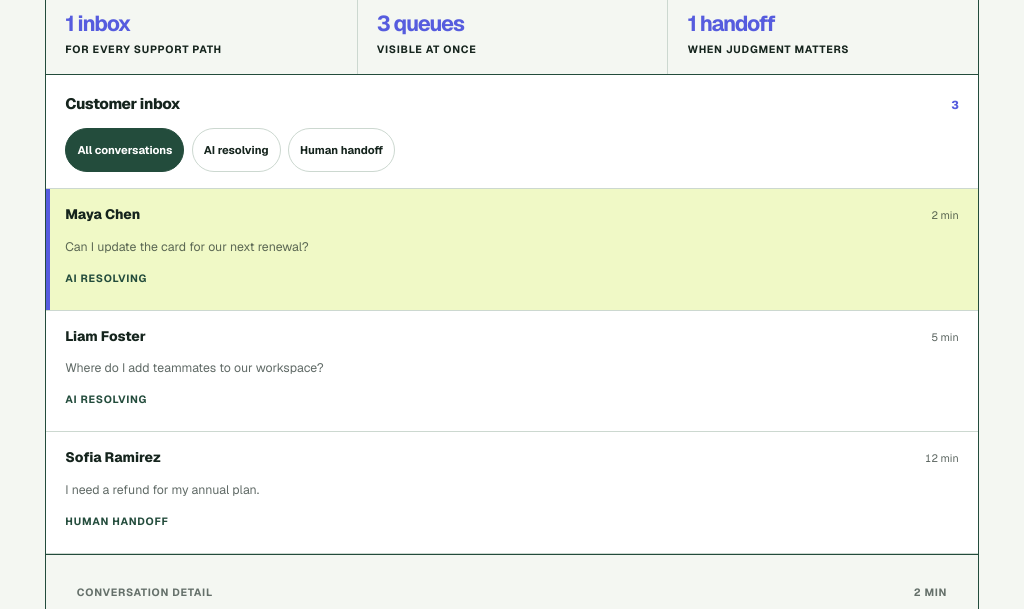
Test: SupportDashboard › queue buttons filter conversations and reset to the first selection
The width and height of the screenshot is (1024, 609).
(page scrolled)
What coordinates should you click on to do the following:
click the button with aria-label "Open Liam Foster conversation"
I would click on:
 (106, 336)
Its box is [46,311,978,432].
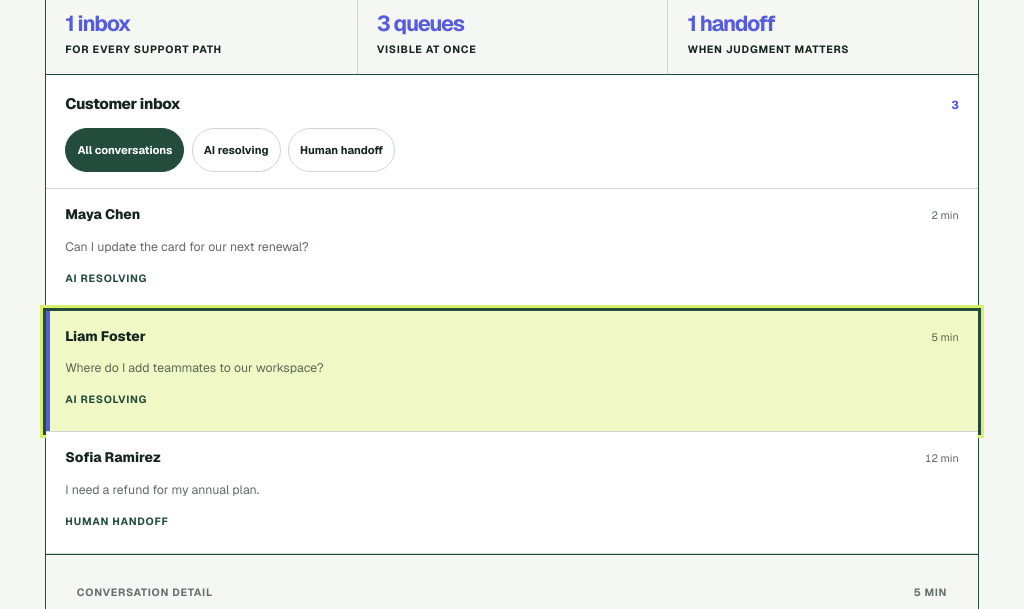
Expected: the button with aria-label "Open Liam Foster conversation" is pressed, [46,311,978,432]
What coordinates should you click on to do the following:
click the button "Human handoff"
I would click on:
 (342, 150)
Its box is [288,128,395,172].
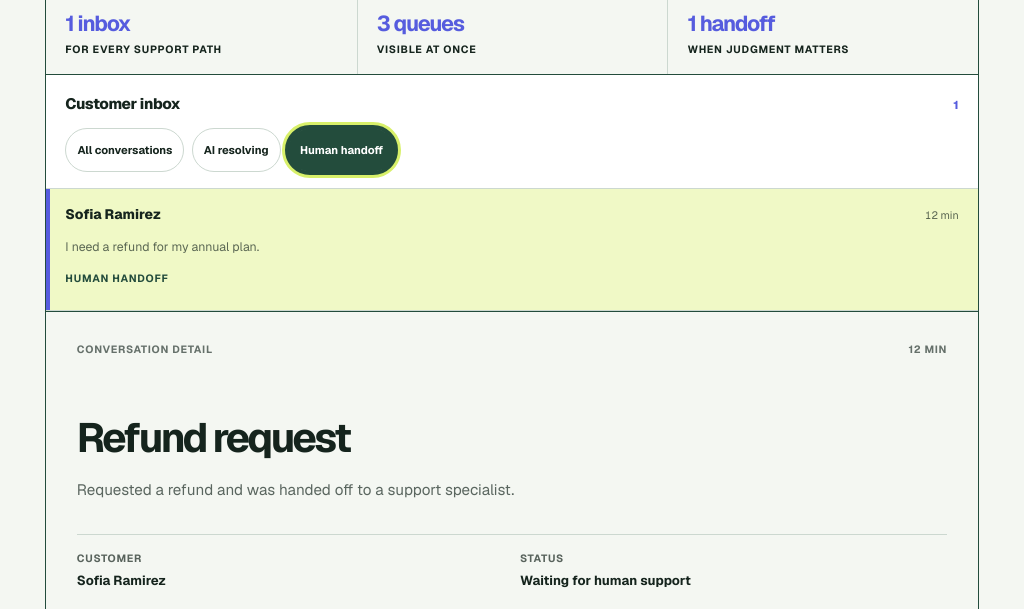
Expected: the button with aria-label "Open Sofia Ramirez conversation" is pressed, [46,189,978,311]
What coordinates should you click on to do the following:
click the button "All conversations"
I would click on:
 (125, 150)
Its box is [65,128,184,172].
(page scrolled)
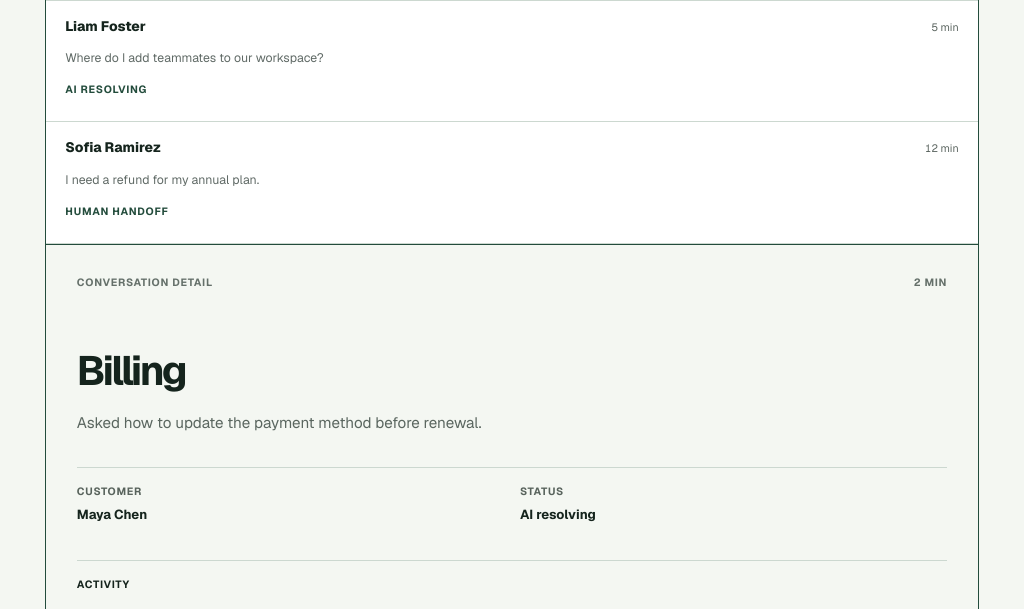
Expected: the heading "Billing" is shown, [77,344,185,397]
